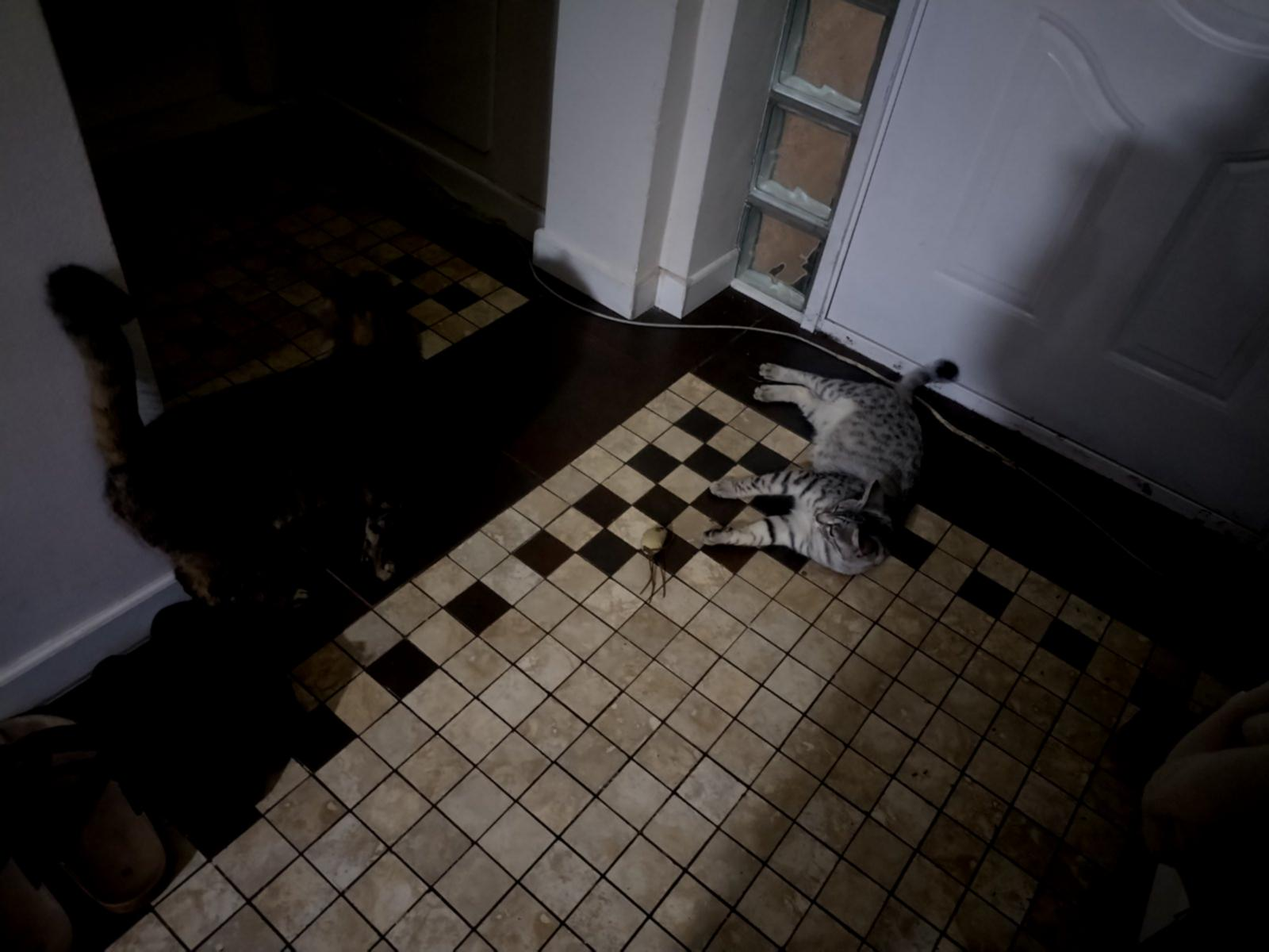macka: (43, 256, 426, 619), (698, 345, 962, 580)
